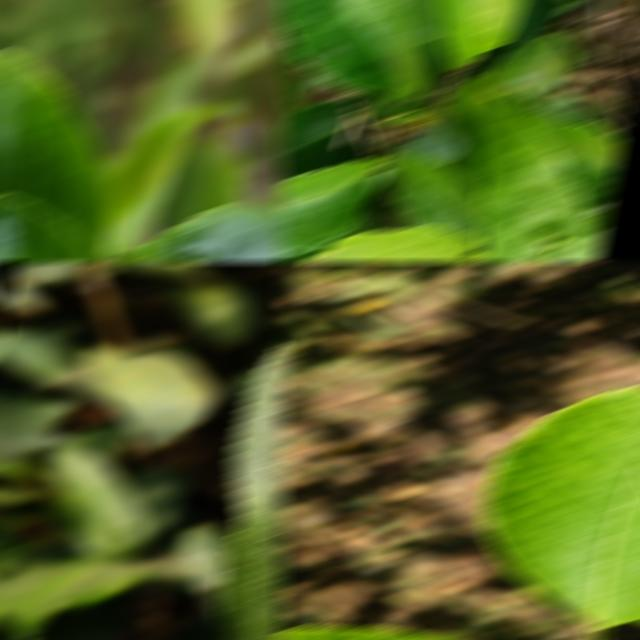Leaf: (482, 386, 640, 627), (0, 52, 111, 261), (470, 94, 598, 261), (102, 106, 224, 253), (277, 1, 428, 102), (81, 346, 219, 448), (501, 93, 623, 207), (0, 557, 147, 639), (45, 447, 152, 558), (152, 118, 256, 232), (277, 160, 382, 252), (389, 153, 487, 245), (277, 100, 367, 178), (167, 283, 258, 349), (484, 35, 579, 98), (436, 1, 526, 66), (306, 227, 478, 261), (176, 524, 237, 618), (0, 329, 82, 385), (440, 85, 486, 173), (175, 1, 240, 63), (508, 1, 568, 60), (277, 45, 309, 121), (351, 95, 379, 124)
